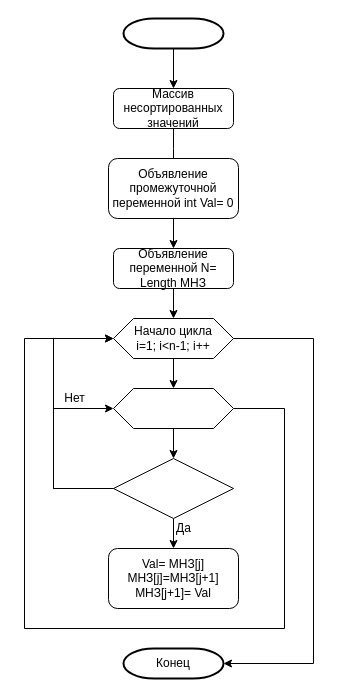
Some shapes in this 339 by 696 pixel diagram are drawn without their labels. Here are the shapes that lost their labels. From the top down, the box of each, then its label:
(122, 17, 224, 49): Начало
(112, 388, 234, 428): Начало цикла j=1; j<n-i; j++
(112, 458, 234, 518): МНЗ[j]>МНЗ[j+1]
